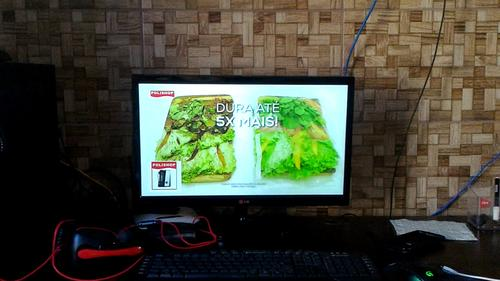Polishop #1: (149, 161, 182, 193)
